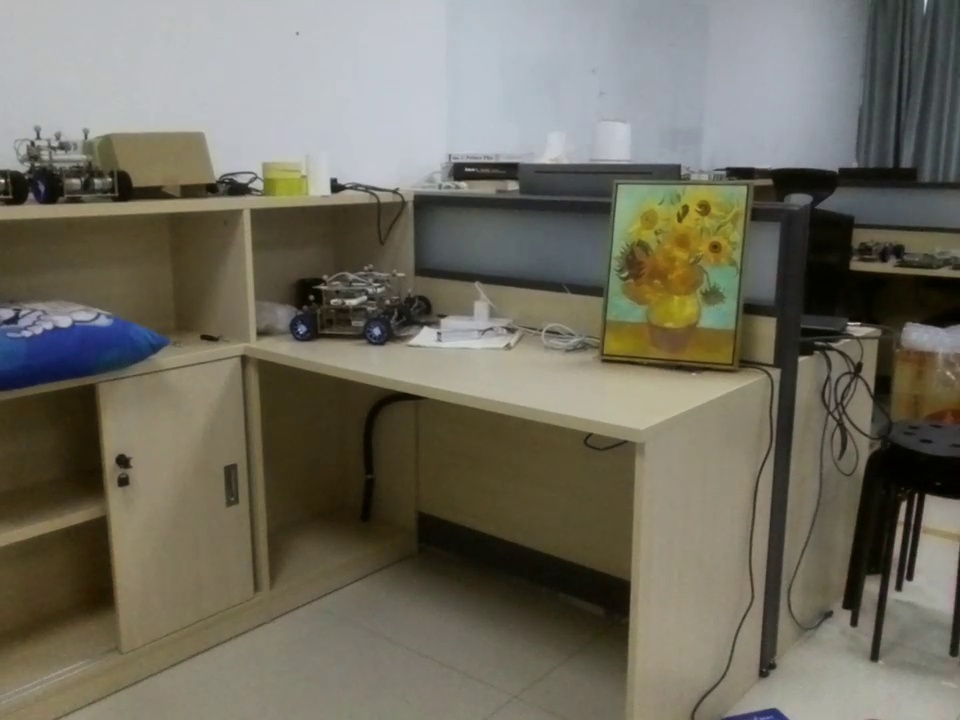painting: (597, 181, 755, 372)
